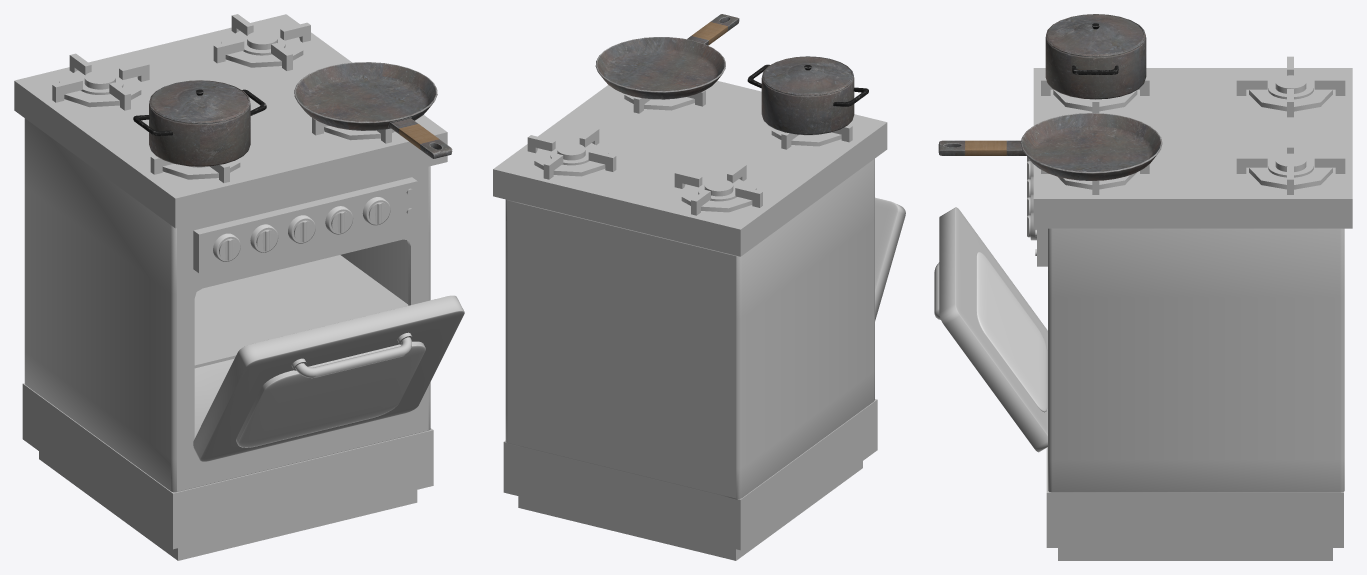
The model's file is Stove.fbx.
3 renders of one model, left to right at view 1: azimuth 30°, elevation 25°; view 2: azimuth 150°, elevation 25°; view 3: azimuth 270°, elevation 25°, orthographic. The views are drawn at different scales.
Parts seen in each view (by area): view 1: Oven, Oven Door, Oven.001, Pan, Pot, Pot Lid; view 2: Oven, Pan, Pot, Pot Lid, Oven Door; view 3: Oven, Oven Door, Pan, Pot, Pot Lid.
Boxes of the visible parts, left/top/right/bottom form: Oven: left=14, top=14, right=447, bottom=560; Oven Door: left=193, top=295, right=464, bottom=461; Oven.001: left=194, top=255, right=408, bottom=368; Pan: left=294, top=62, right=452, bottom=158; Pot: left=133, top=89, right=266, bottom=166; Pot Lid: left=149, top=80, right=250, bottom=124; Oven: left=493, top=81, right=887, bottom=560; Pan: left=595, top=14, right=739, bottom=99; Pot: left=747, top=64, right=868, bottom=134; Pot Lid: left=762, top=56, right=853, bottom=96; Oven Door: left=875, top=197, right=905, bottom=320; Oven: left=1027, top=56, right=1352, bottom=560; Oven Door: left=934, top=207, right=1047, bottom=452; Pan: left=938, top=113, right=1162, bottom=180; Pot: left=1045, top=37, right=1146, bottom=99; Pot Lid: left=1046, top=14, right=1145, bottom=57.
Size of the model in its own units: 53.38 by 80.32 by 69.05.
